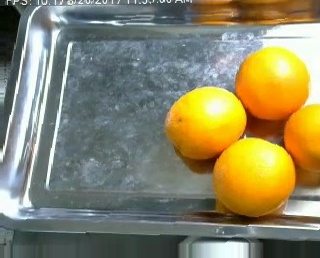Orange: (213, 137, 297, 217), (165, 85, 247, 160), (235, 46, 311, 119)
